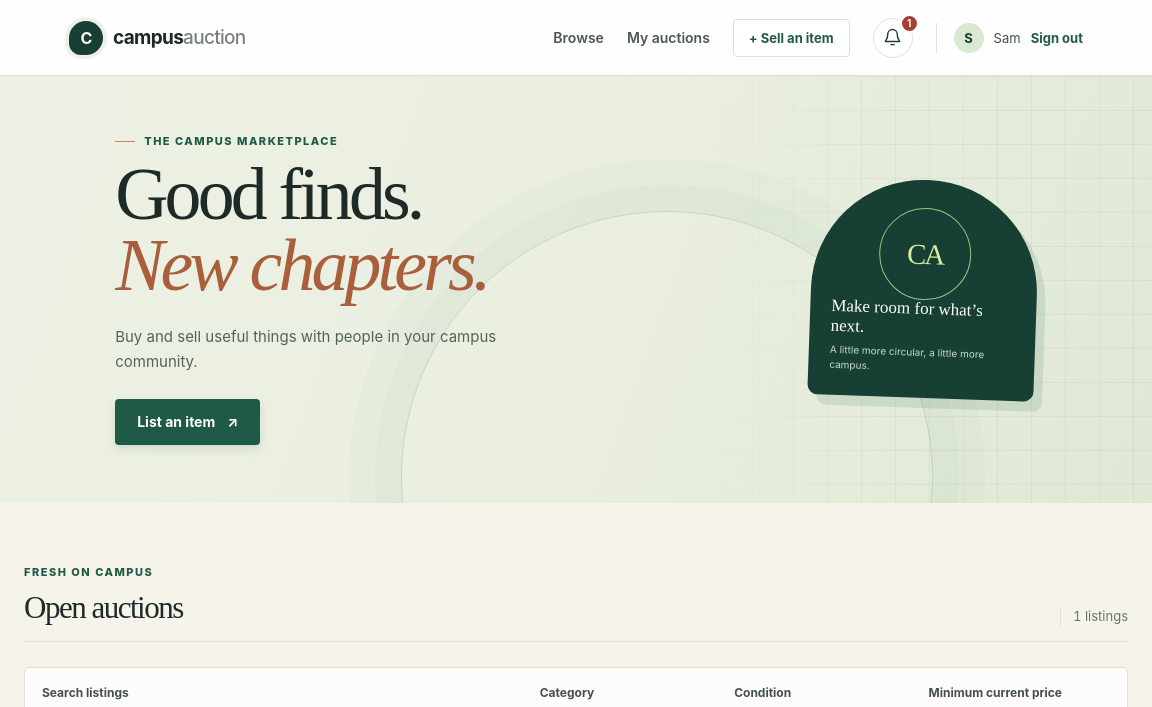
Test: notification bell displays unread notifications and marks them read
Step 1. Click the button named "Notifications, 1 unread" → (893, 38), box [873,18,913,58]
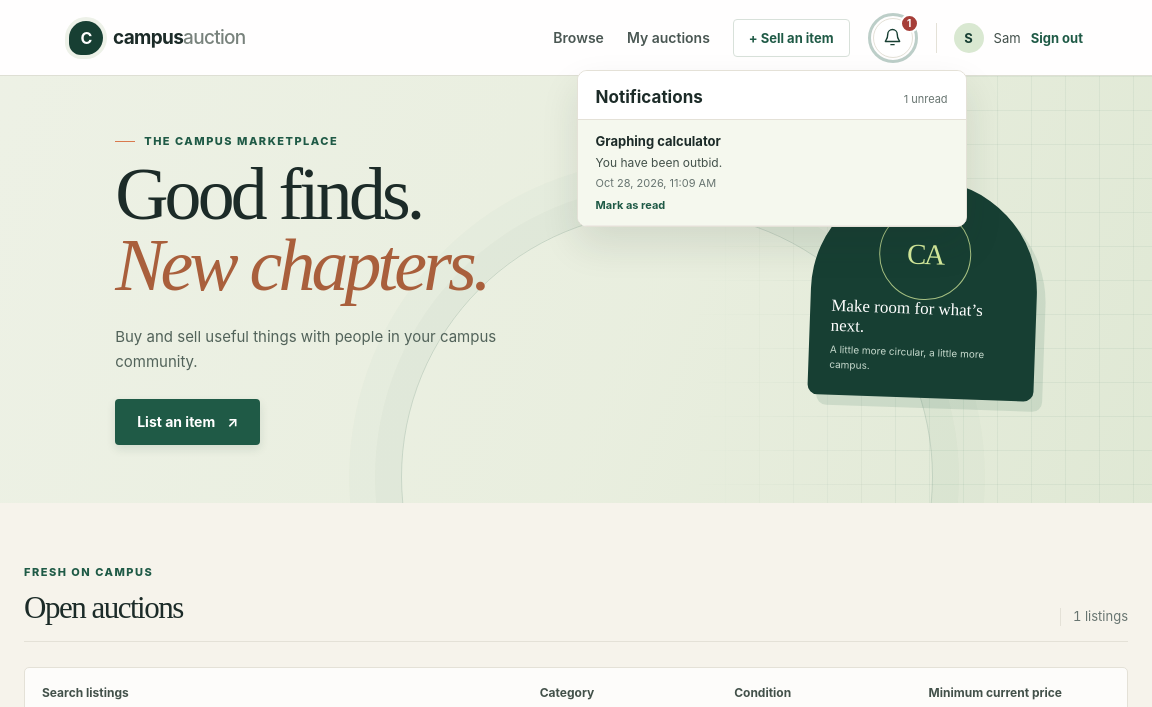
expect the text "You have been outbid." is shown: met, box [596,154,722,170]
Step 2. Click the button "Mark as read" → (630, 205), box [596,198,665,212]
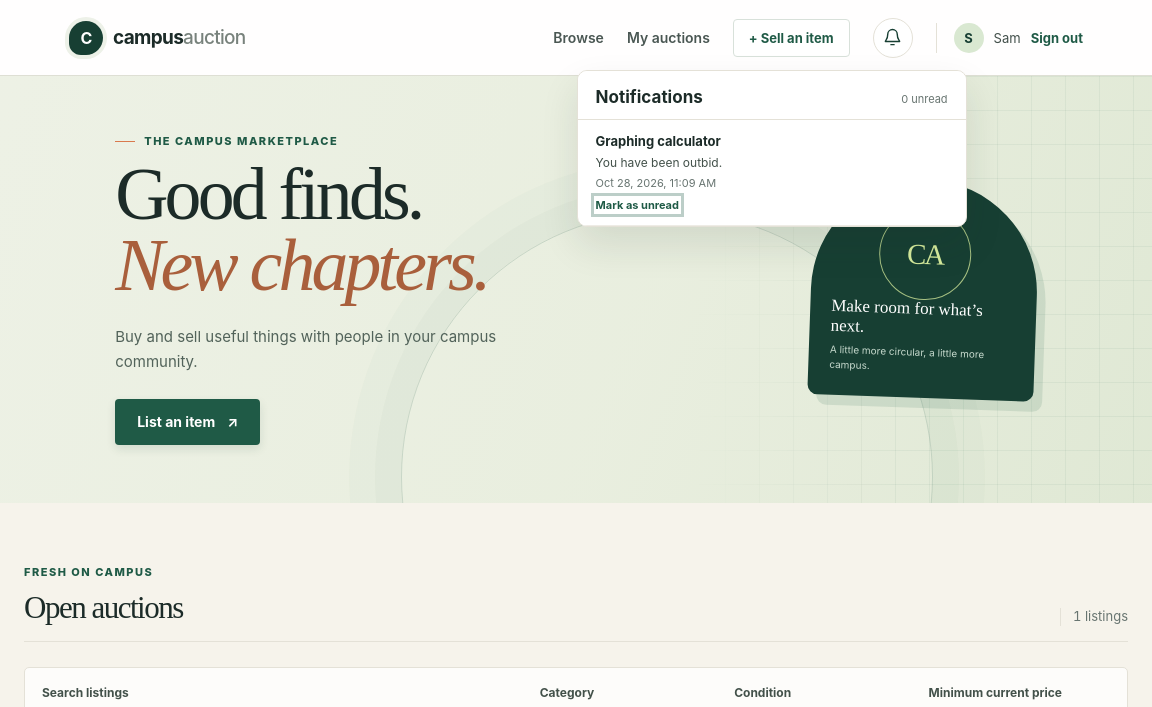
expect the button named "Notifications" is shown: met, box [873,18,913,58]
expect the button "Mark as unread" is shown: met, box [596,198,679,212]
